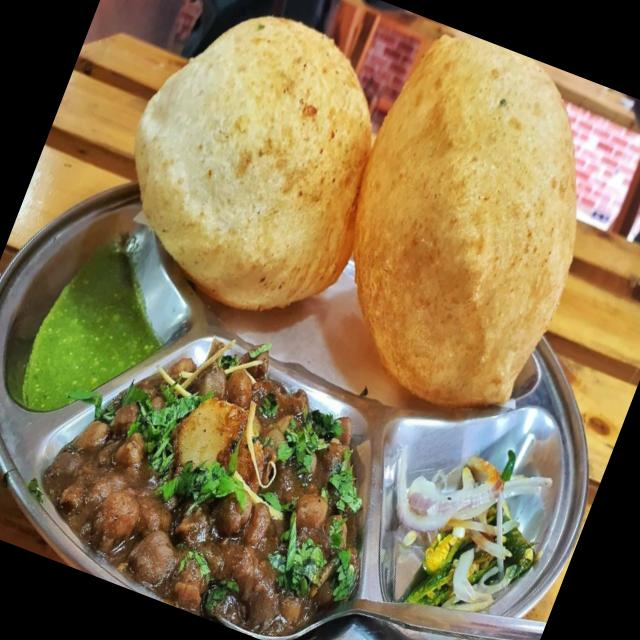Bhatura: (89, 0, 638, 415)
Chole: (39, 308, 396, 640)
